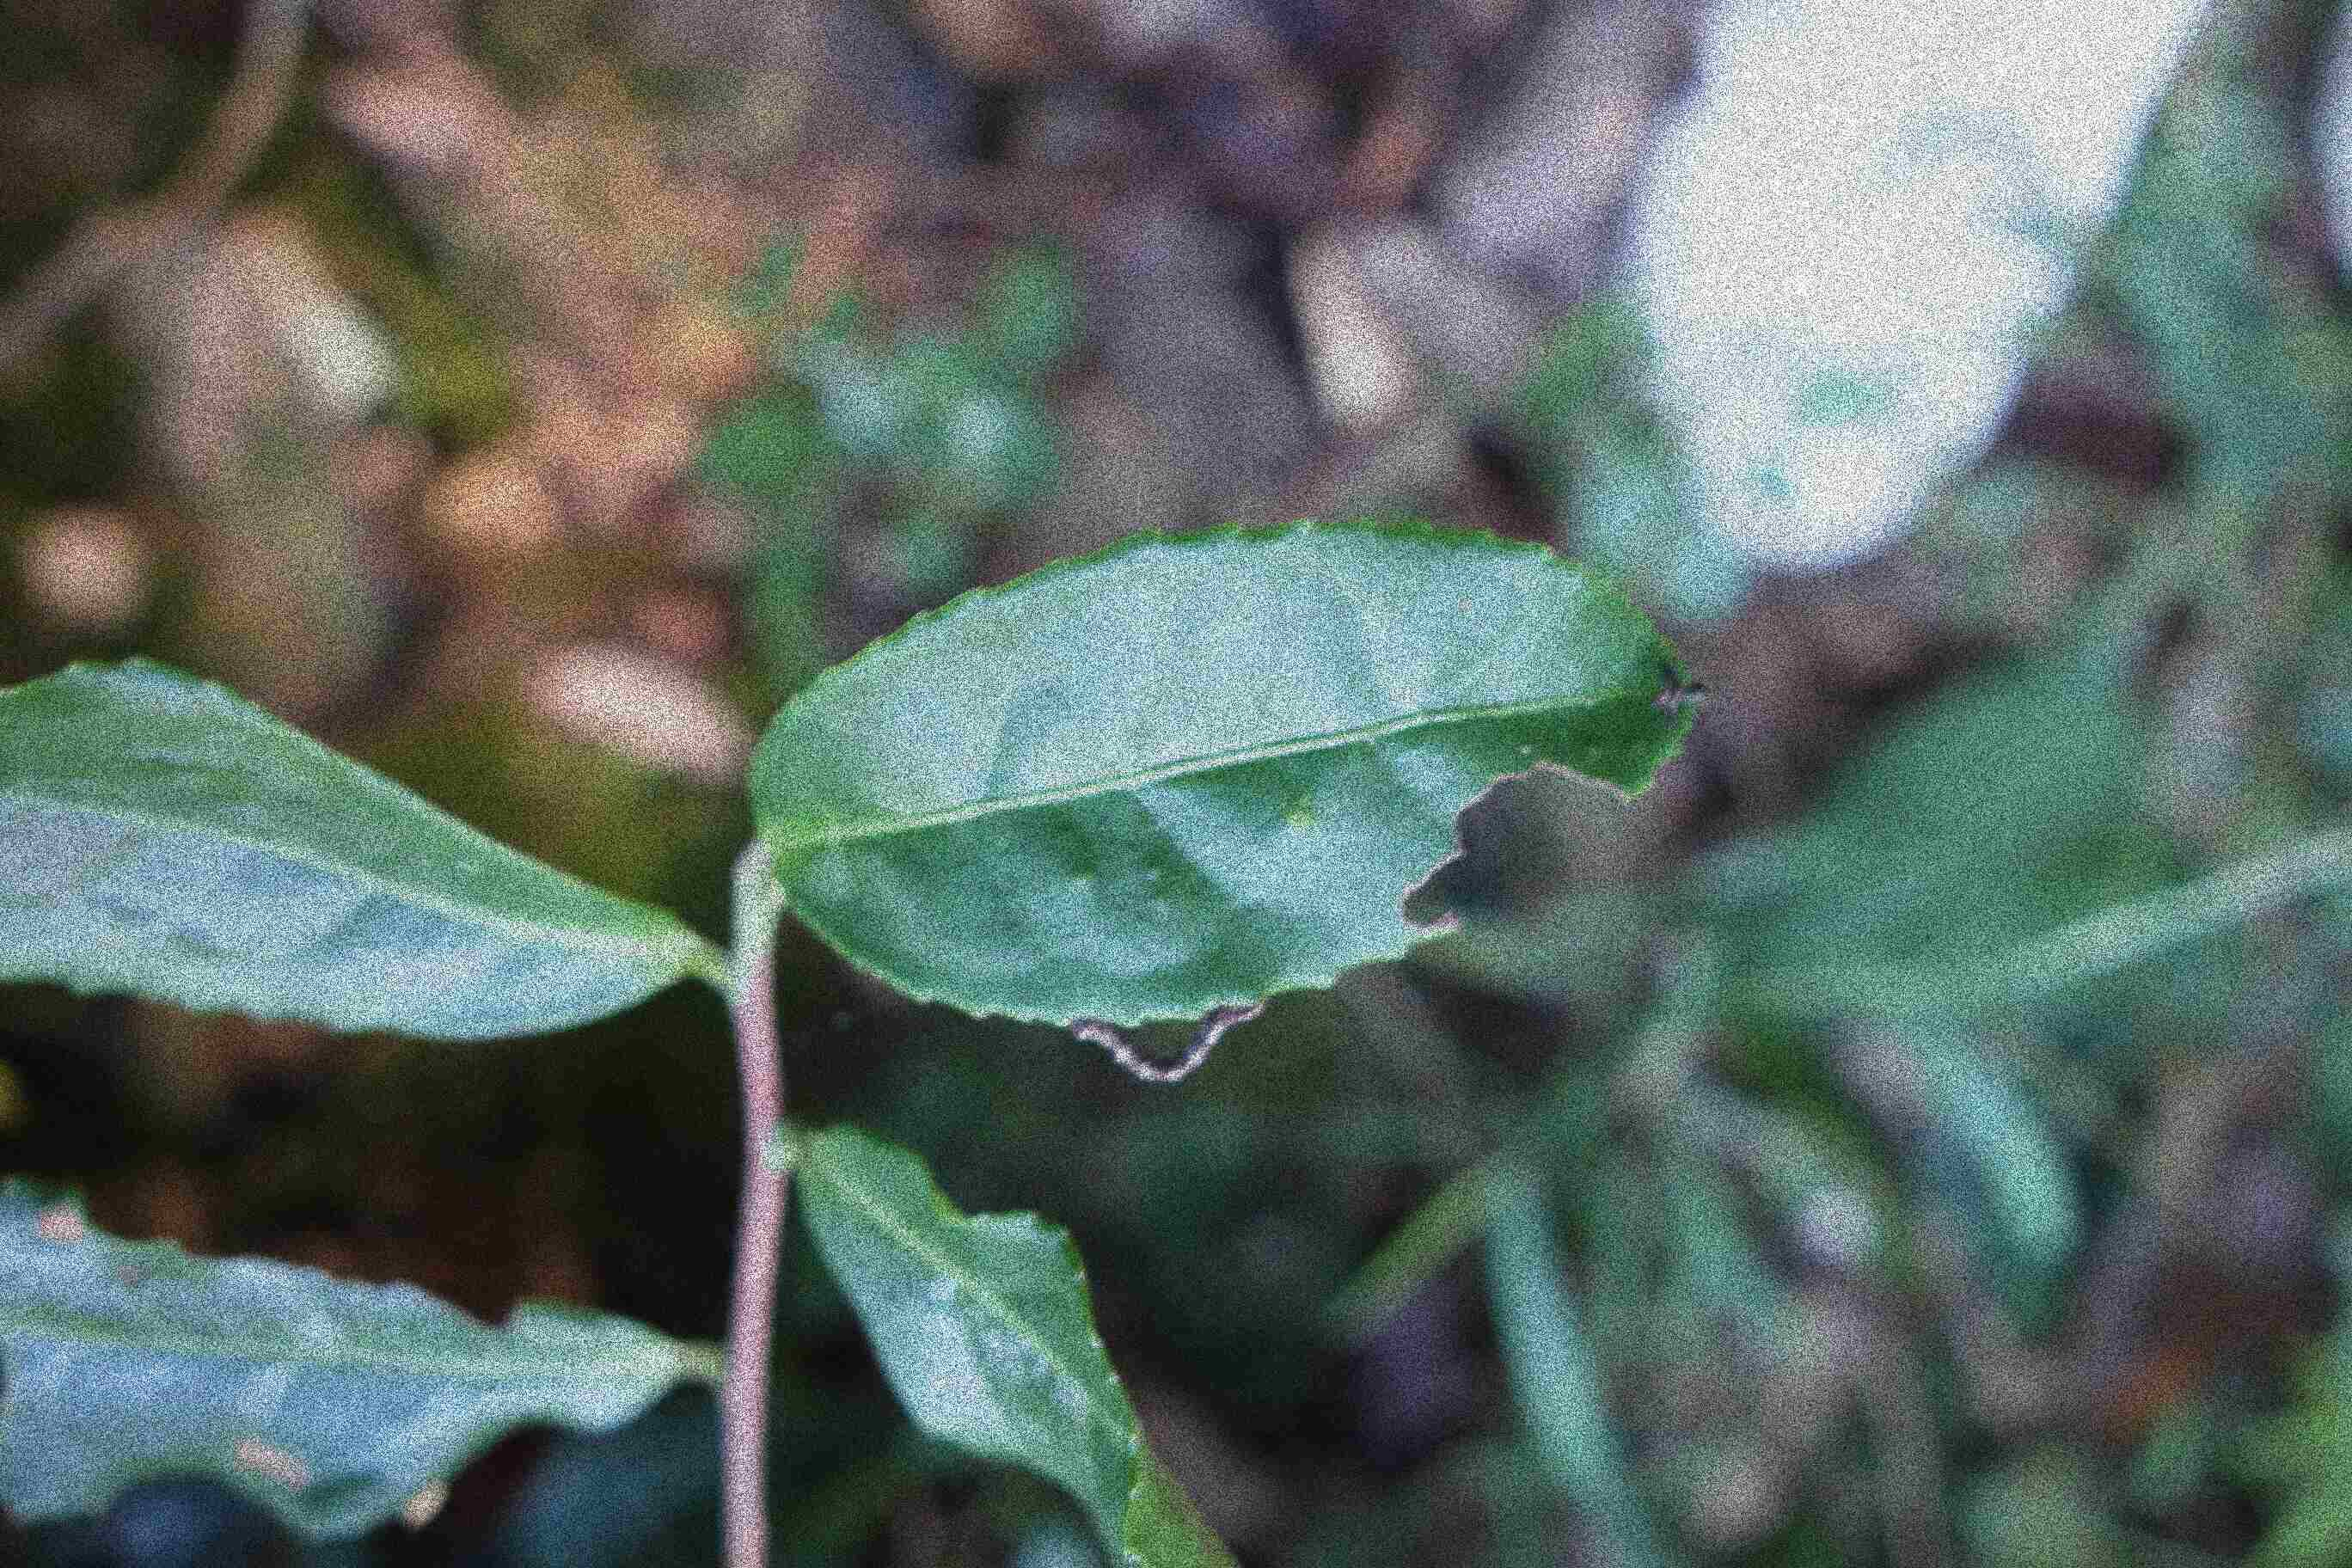chihuo_low: (731, 514, 1708, 1025)
